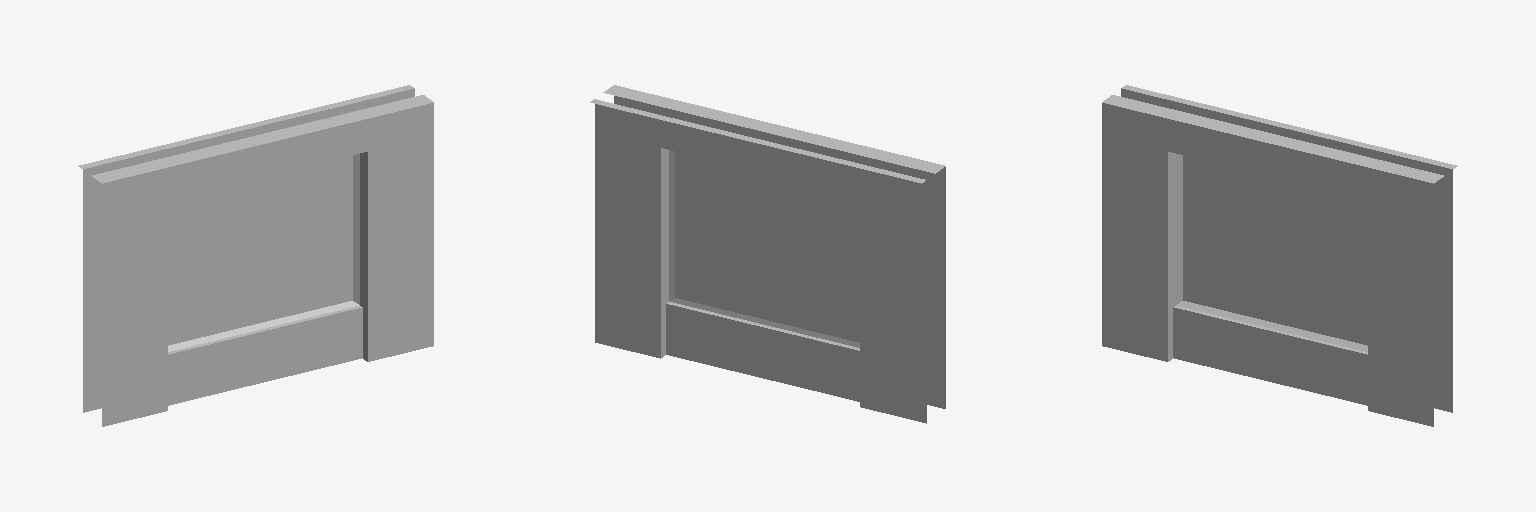
File: Building_Bottom_Straight_A_LOD1.obj
The picture shows the model from 3 angles: view 1: azimuth 30°, elevation 25°; view 2: azimuth 150°, elevation 25°; view 3: azimuth 330°, elevation 25°; orthographic projection.
Parts seen in each view (by area): view 1: Building_Bottom_Straight_A_LOD1 Building_Bottom_Straight_A; view 2: Building_Bottom_Straight_A_LOD1 Building_Bottom_Straight_A; view 3: Building_Bottom_Straight_A_LOD1 Building_Bottom_Straight_A.
Boxes of the visible parts, <box> form: Building_Bottom_Straight_A_LOD1 Building_Bottom_Straight_A: <box>78,85,433,426</box>; Building_Bottom_Straight_A_LOD1 Building_Bottom_Straight_A: <box>590,85,945,423</box>; Building_Bottom_Straight_A_LOD1 Building_Bottom_Straight_A: <box>1102,85,1457,426</box>.
Bounding box in the file's own units: 500 × 350 × 63.11.